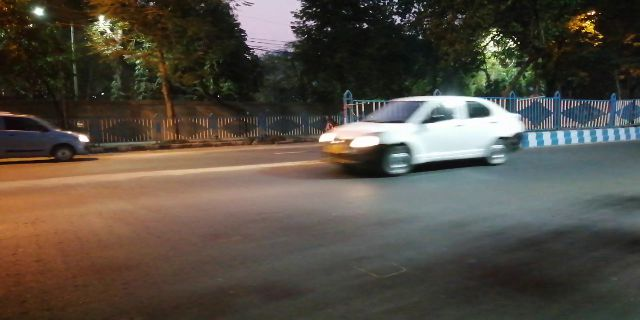Car: (314, 83, 532, 175)
